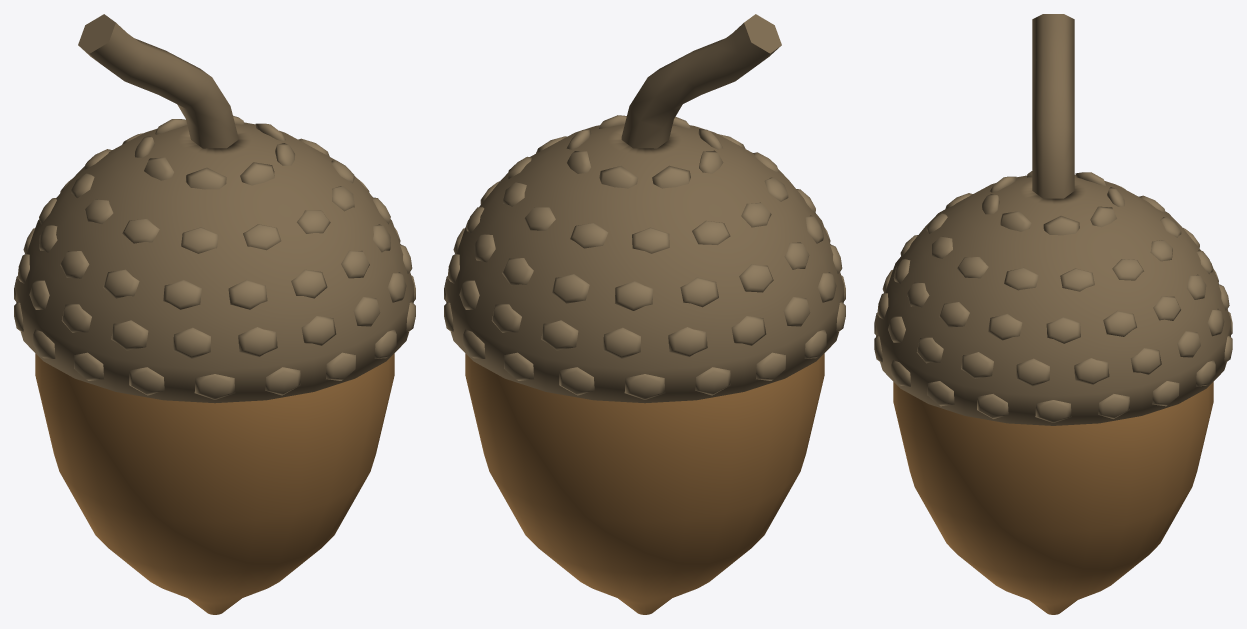
Rendered from A-NEW-20261027-ACORN-001_LOD2_R1.glb.
The picture shows the model from 3 angles, left to right: view 1: azimuth 30°, elevation 25°; view 2: azimuth 150°, elevation 25°; view 3: azimuth 270°, elevation 25°; orthographic projection. The views are drawn at different scales.
Parts seen in each view (by area): view 1: attached thick woody cup, smooth whole nut, short attached woody stalk, embedded woody cup scale 029, embedded woody cup scale 030, embedded woody cup scale 046, embedded woody cup scale 045, embedded woody cup scale 028, embedded woody cup scale 012, embedded woody cup scale 031, embedded woody cup scale 011, embedded woody cup scale 013 (+14 smaller); view 2: attached thick woody cup, smooth whole nut, short attached woody stalk, embedded woody cup scale 023, embedded woody cup scale 024, embedded woody cup scale 040, embedded woody cup scale 022, embedded woody cup scale 041, embedded woody cup scale 006, embedded woody cup scale 039, embedded woody cup scale 025, embedded woody cup scale 005 (+14 smaller); view 3: attached thick woody cup, smooth whole nut, short attached woody stalk, embedded woody cup scale 035, embedded woody cup scale 018, embedded woody cup scale 051, embedded woody cup scale 034, embedded woody cup scale 050, embedded woody cup scale 000, embedded woody cup scale 036, embedded woody cup scale 019, embedded woody cup scale 001 (+12 smaller).
Boxes of the visible parts, x1,y1,x2,y2 form: attached thick woody cup: [15, 122, 414, 403]; smooth whole nut: [35, 353, 394, 614]; short attached woody stalk: [78, 14, 238, 148]; embedded woody cup scale 029: [173, 327, 210, 358]; embedded woody cup scale 030: [238, 327, 277, 356]; embedded woody cup scale 046: [228, 279, 267, 309]; embedded woody cup scale 045: [163, 280, 201, 309]; embedded woody cup scale 028: [111, 320, 148, 350]; embedded woody cup scale 012: [194, 374, 235, 399]; embedded woody cup scale 031: [301, 316, 336, 345]; embedded woody cup scale 011: [129, 367, 164, 395]; embedded woody cup scale 013: [265, 367, 300, 395]; attached thick woody cup: [445, 124, 844, 403]; smooth whole nut: [465, 353, 824, 614]; short attached woody stalk: [621, 14, 781, 148]; embedded woody cup scale 023: [603, 327, 640, 358]; embedded woody cup scale 024: [668, 327, 707, 356]; embedded woody cup scale 040: [615, 281, 653, 310]; embedded woody cup scale 022: [541, 320, 578, 350]; embedded woody cup scale 041: [680, 277, 718, 307]; embedded woody cup scale 006: [624, 374, 665, 399]; embedded woody cup scale 039: [552, 274, 589, 303]; embedded woody cup scale 025: [731, 316, 766, 345]; embedded woody cup scale 005: [559, 367, 594, 395]; attached thick woody cup: [875, 174, 1231, 425]; smooth whole nut: [893, 382, 1213, 614]; short attached woody stalk: [1032, 14, 1074, 198]; embedded woody cup scale 035: [1016, 358, 1049, 386]; embedded woody cup scale 018: [1074, 358, 1109, 384]; embedded woody cup scale 051: [1046, 317, 1080, 343]; embedded woody cup scale 034: [961, 352, 993, 378]; embedded woody cup scale 050: [988, 314, 1022, 340]; embedded woody cup scale 000: [1035, 400, 1071, 422]; embedded woody cup scale 036: [1103, 310, 1136, 336]; embedded woody cup scale 019: [1130, 348, 1161, 374]; embedded woody cup scale 001: [1098, 394, 1129, 418].
Bounding box in the file's own units: 0.0329 × 0.0551 × 0.0324.
